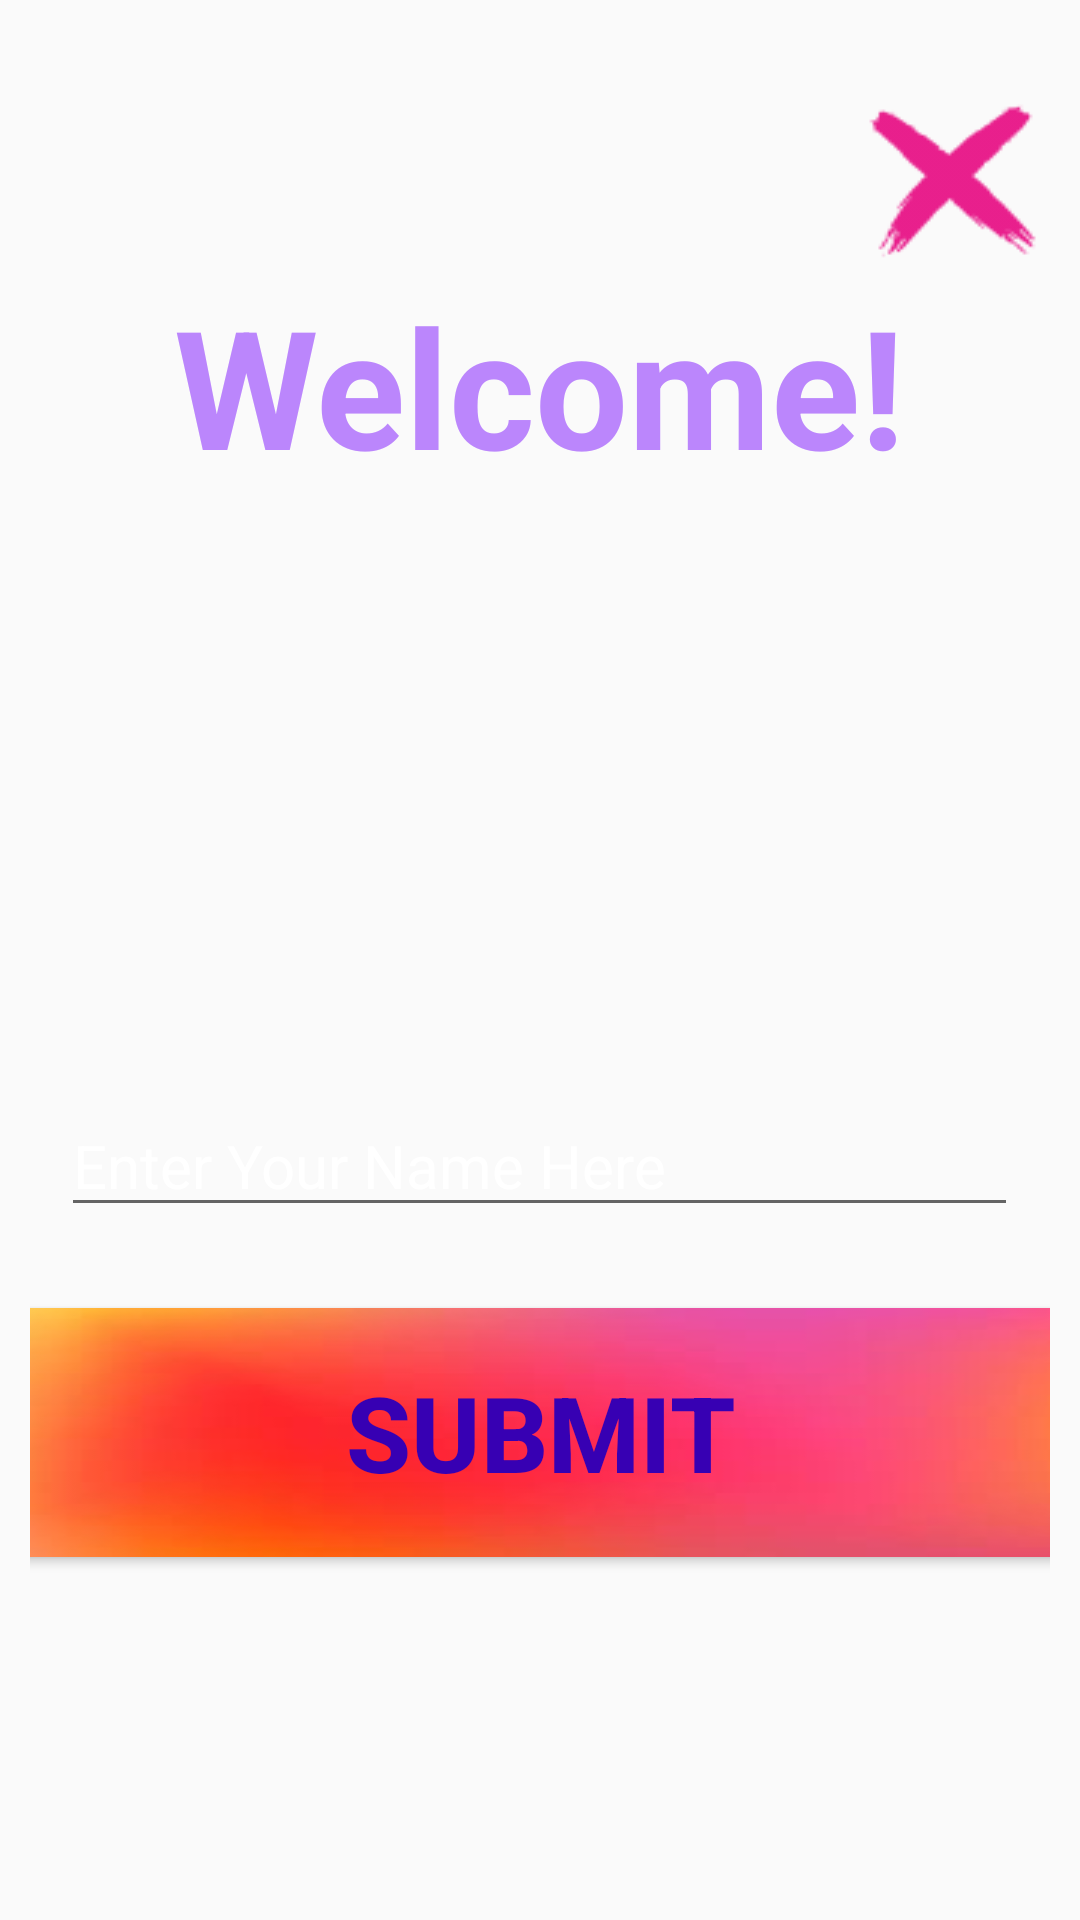

Named icons in this screenshot (1080×1920) and their centers, (x=x, y=y):
exit: (x=953, y=181)
